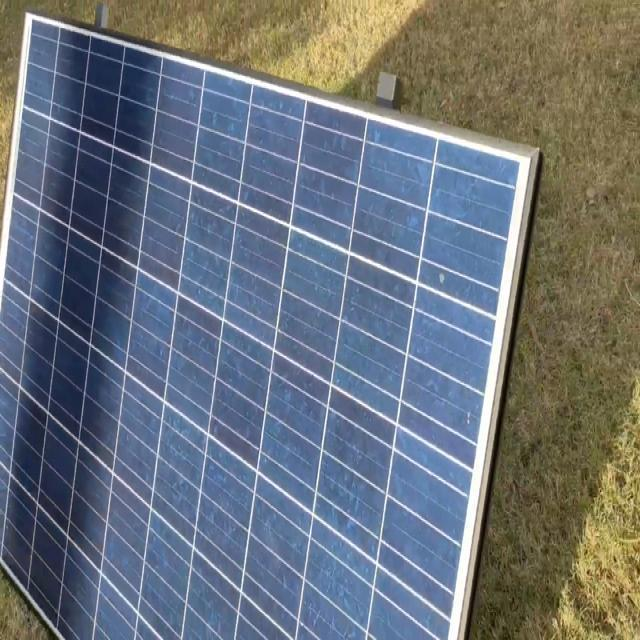Normal Solar Panel: (0, 11, 535, 640)
